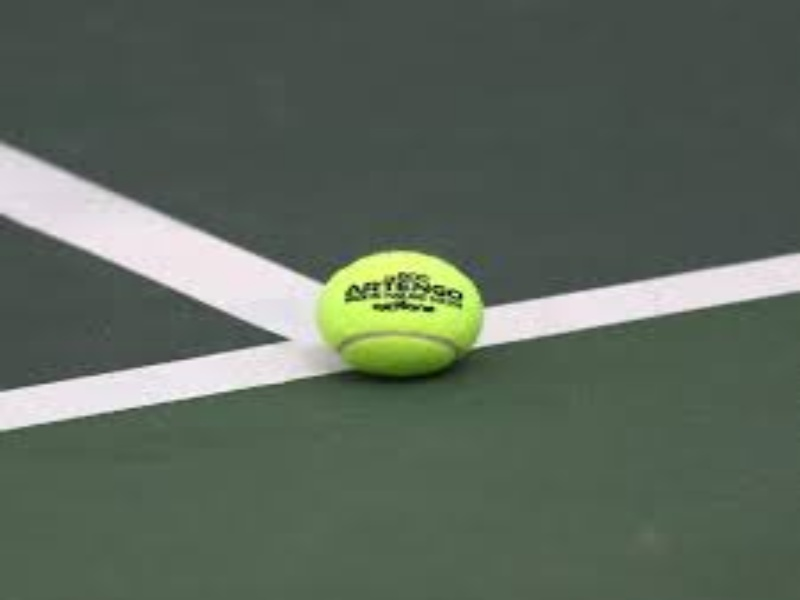tennis ball: (313, 244, 508, 384)
